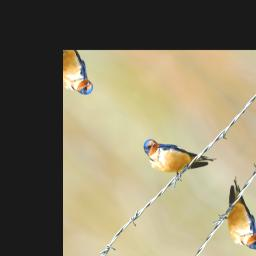Swallow: (135, 114, 217, 197)
